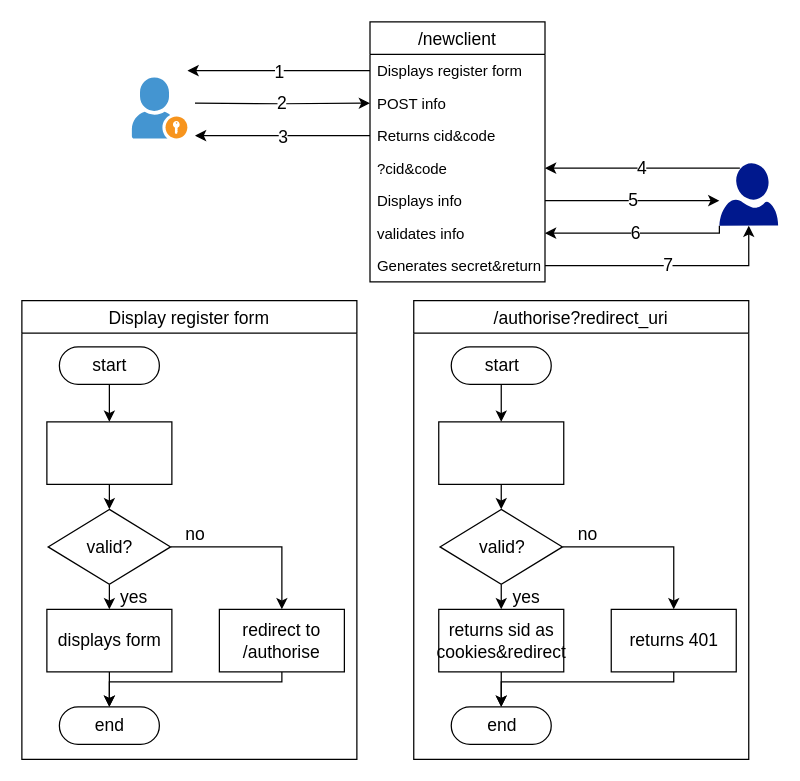
The diagram is 800 pixels wide and 781 high, and some of its shapes have lost their labels. Each missing label, with the centre of its shape:
"extracts sid" goes at point 109,452.
"POST email&password" goes at point 501,452.
